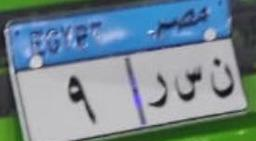9: (60, 66, 102, 129)
ر: (143, 59, 174, 114)
س: (172, 53, 211, 107)
ن: (211, 53, 235, 99)
